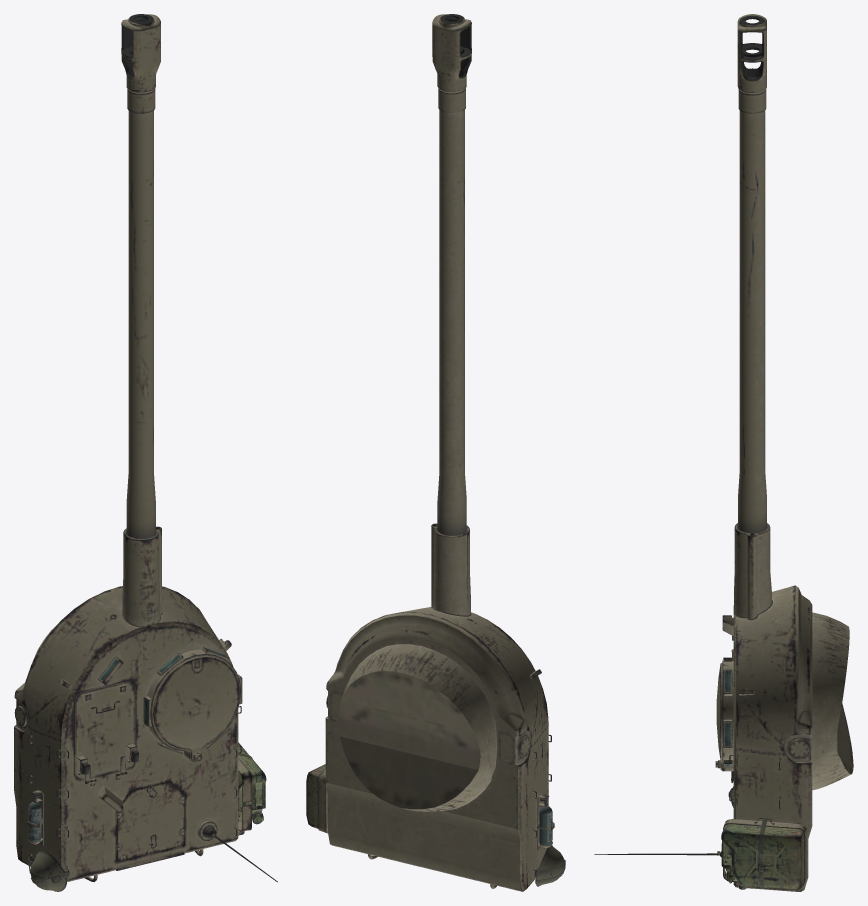
File: Gun_04.glb
3 views of the same model, side by side, from view 1: azimuth 30°, elevation 25°; view 2: azimuth 150°, elevation 25°; view 3: azimuth 270°, elevation 25° (orthographic).
Visible parts, largest first — view 1: set_0_group_0; view 2: set_0_group_0; view 3: set_0_group_0.
Boxes of the visible parts, x1,y1,x2,y2 form: set_0_group_0: (14, 14, 277, 891); set_0_group_0: (306, 14, 565, 891); set_0_group_0: (594, 14, 853, 891).
Bounding box in the file's own units: 1.54 × 5.38 × 1.51.
Materials: 1 (1 with a texture image).
